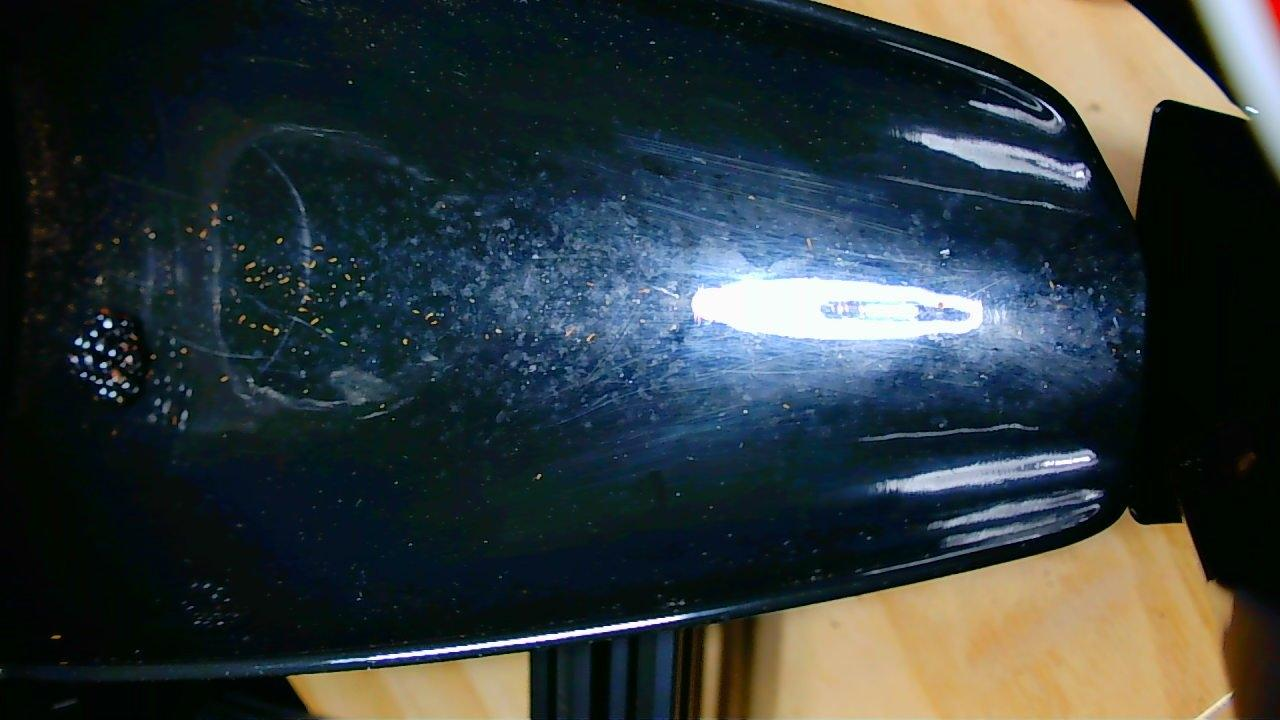berry: (68, 311, 146, 404)
